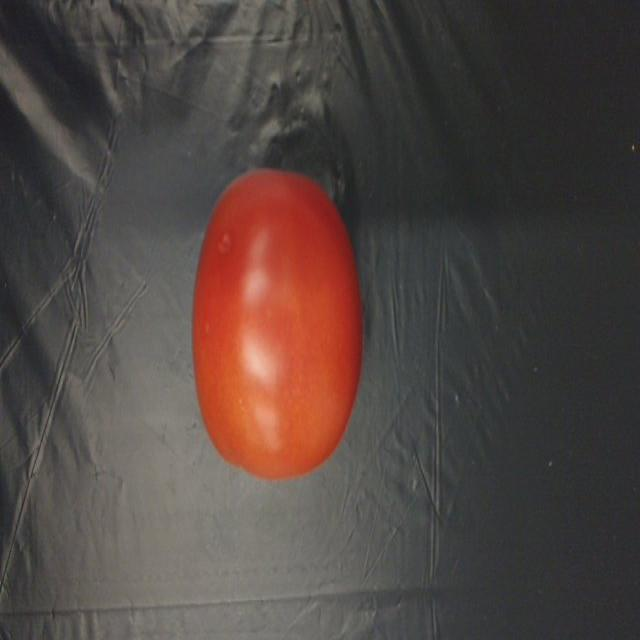kirmizi: (188, 160, 366, 476)
